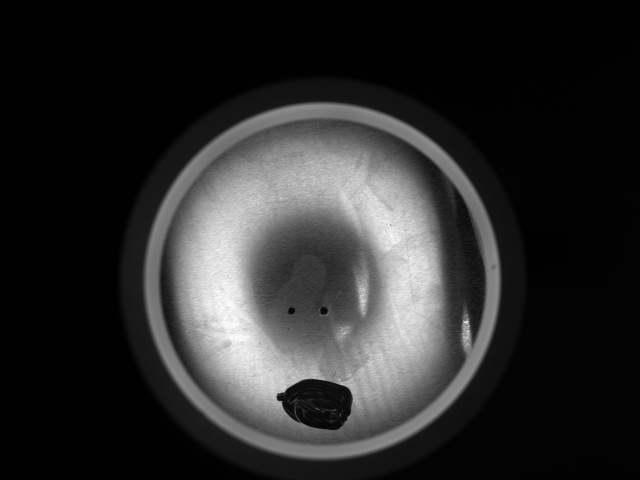zang_wu: (276, 376, 354, 432)
zhen_kong: (316, 303, 334, 318), (284, 303, 297, 317)
